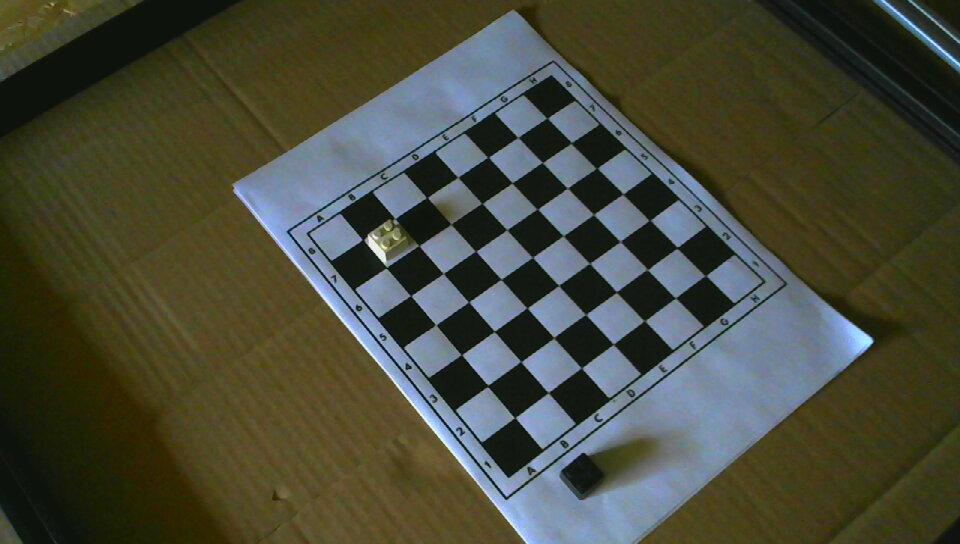bp: (561, 452, 605, 500)
wp: (366, 218, 412, 264)
